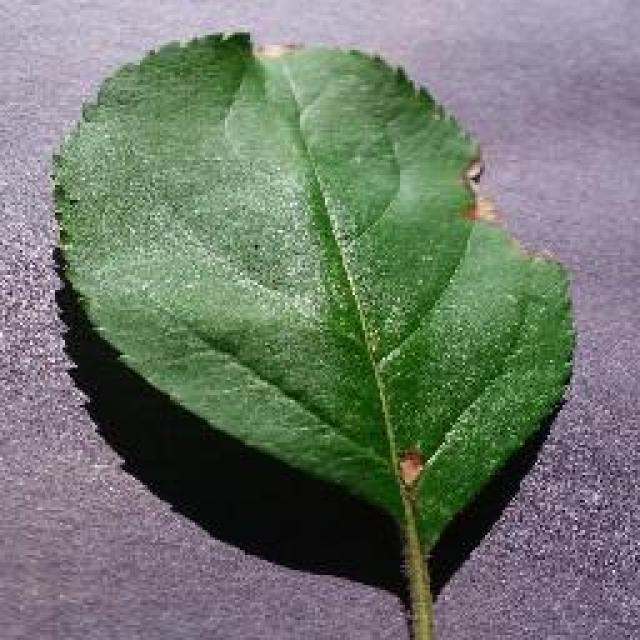Black_rot: (48, 28, 578, 638)
